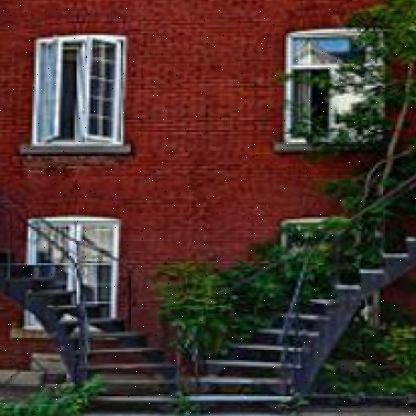stair_up: (32, 249, 328, 408)
